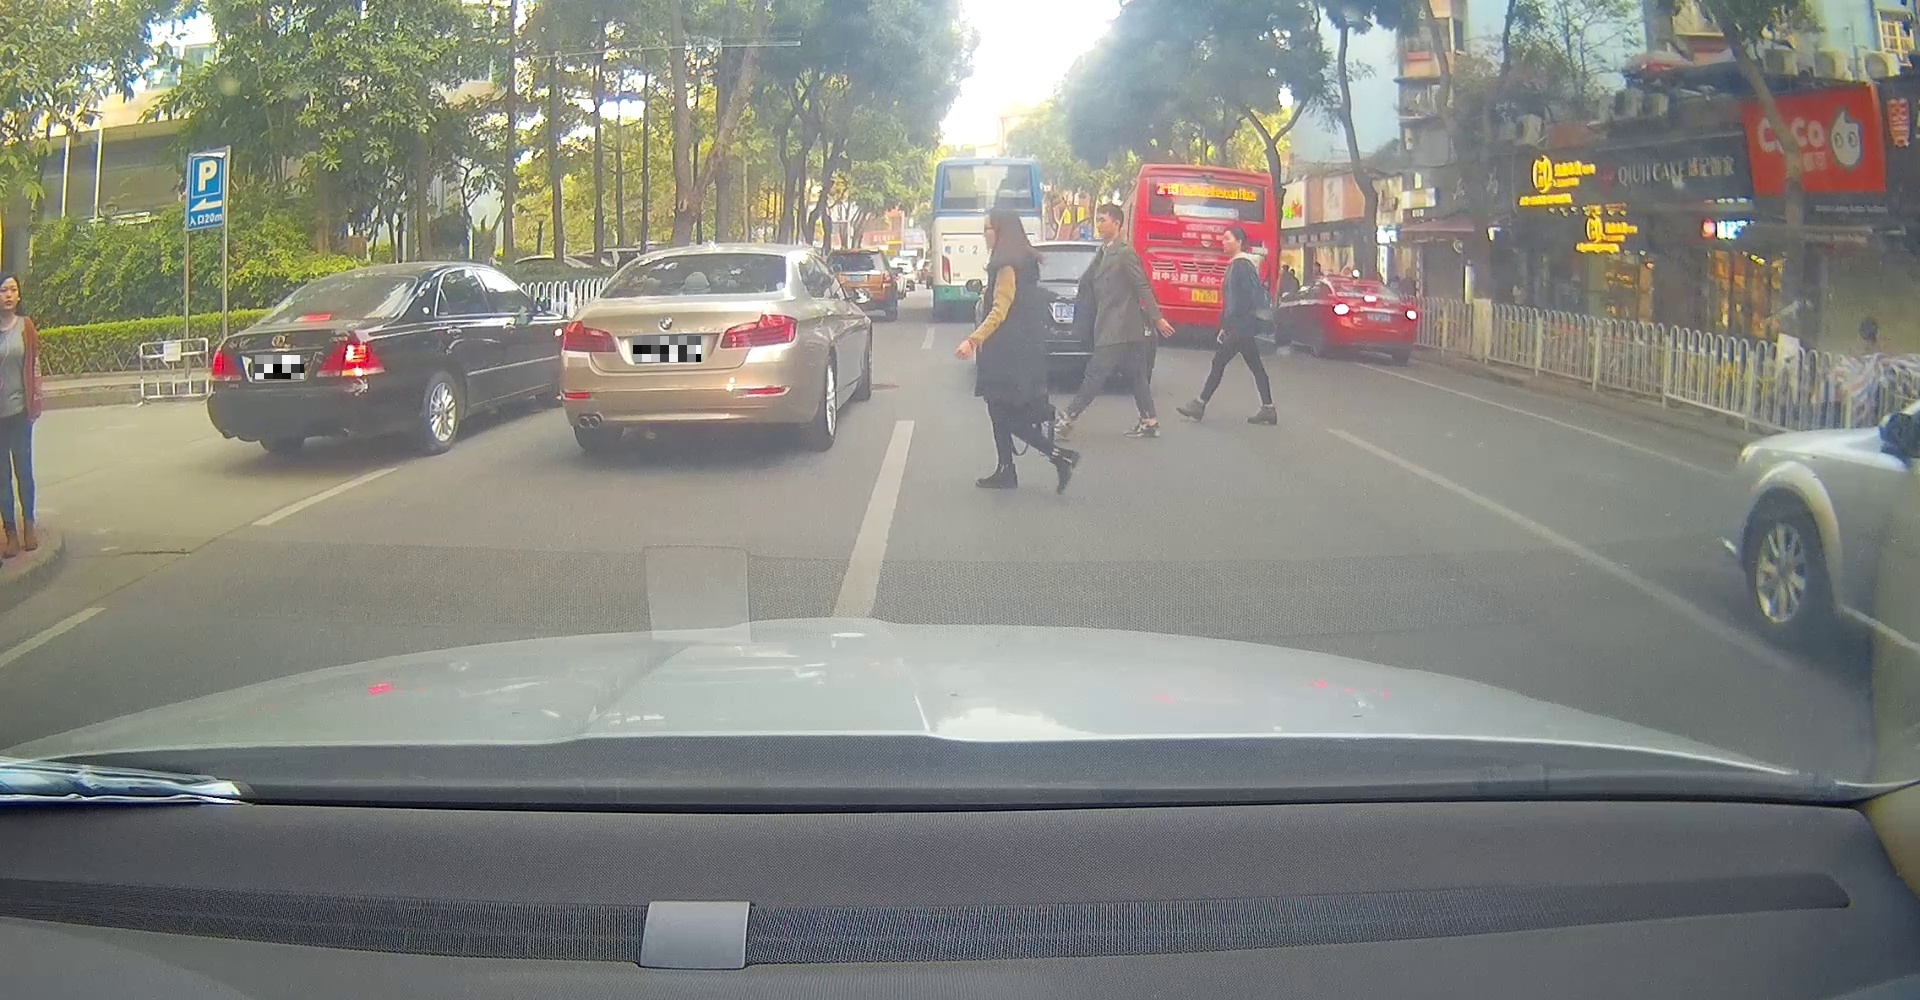L_light: (563, 320, 617, 353), (210, 349, 243, 379), (1332, 302, 1352, 315)
R_light: (720, 313, 797, 349), (317, 339, 383, 376), (1404, 310, 1418, 321)
T_light: (293, 313, 331, 322), (691, 253, 723, 263), (1364, 296, 1377, 303)
day-brake: (206, 261, 422, 456), (1324, 275, 1418, 363)
day-no: (560, 244, 803, 452)
plate_1: (255, 355, 303, 379)
plate_2: (632, 336, 701, 362)
